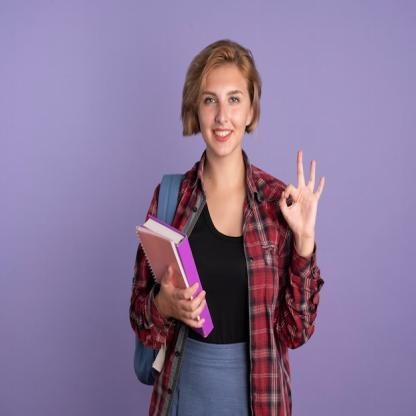ok: (276, 147, 329, 242)
